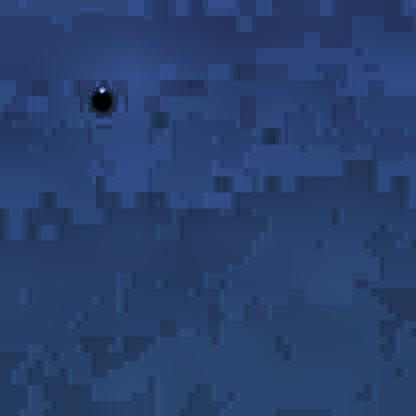golfball: (89, 82, 108, 107)
